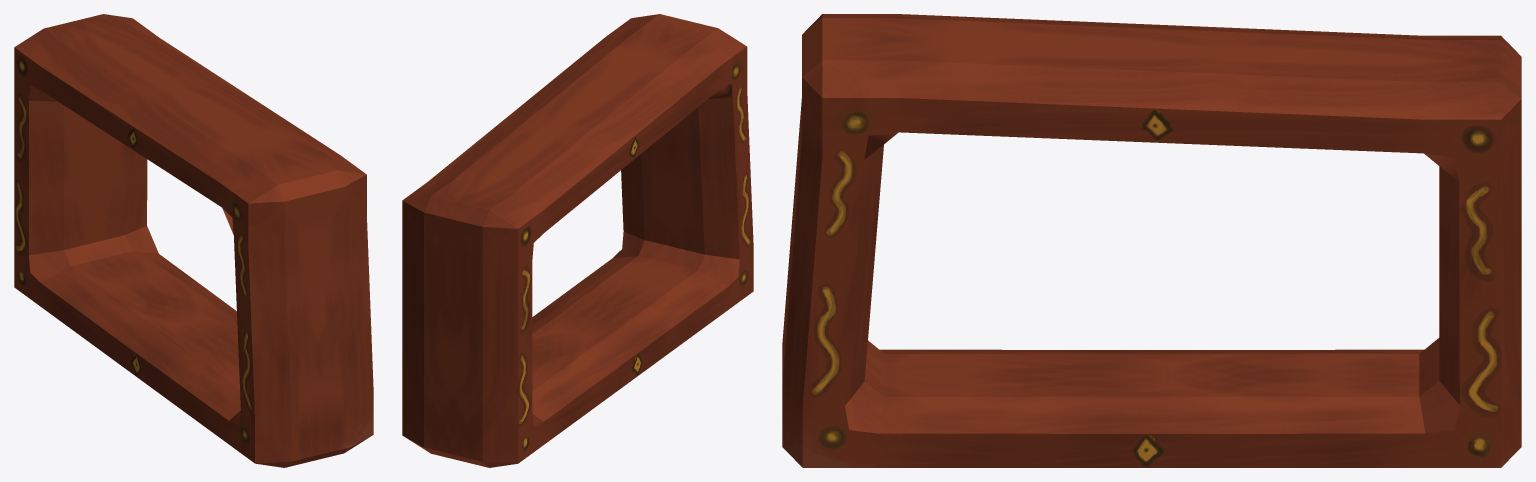
Rendered from Resident_Window_Finish 1.fbx.
The picture shows the model from 3 angles, left to right: view 1: azimuth 30°, elevation 25°; view 2: azimuth 150°, elevation 25°; view 3: azimuth 270°, elevation 25°; orthographic projection. The views are drawn at different scales.
Visible parts, largest first — view 1: pCube25; view 2: pCube25; view 3: pCube25.
Part boxes in pixels (box(x1,y1,x2,y2)): pCube25: box(14, 14, 373, 467); pCube25: box(402, 14, 753, 467); pCube25: box(782, 14, 1521, 467).
Bounding box in the file's own units: 1.52 × 3.41 × 5.66.
Materials: 1 (1 with a texture image).
